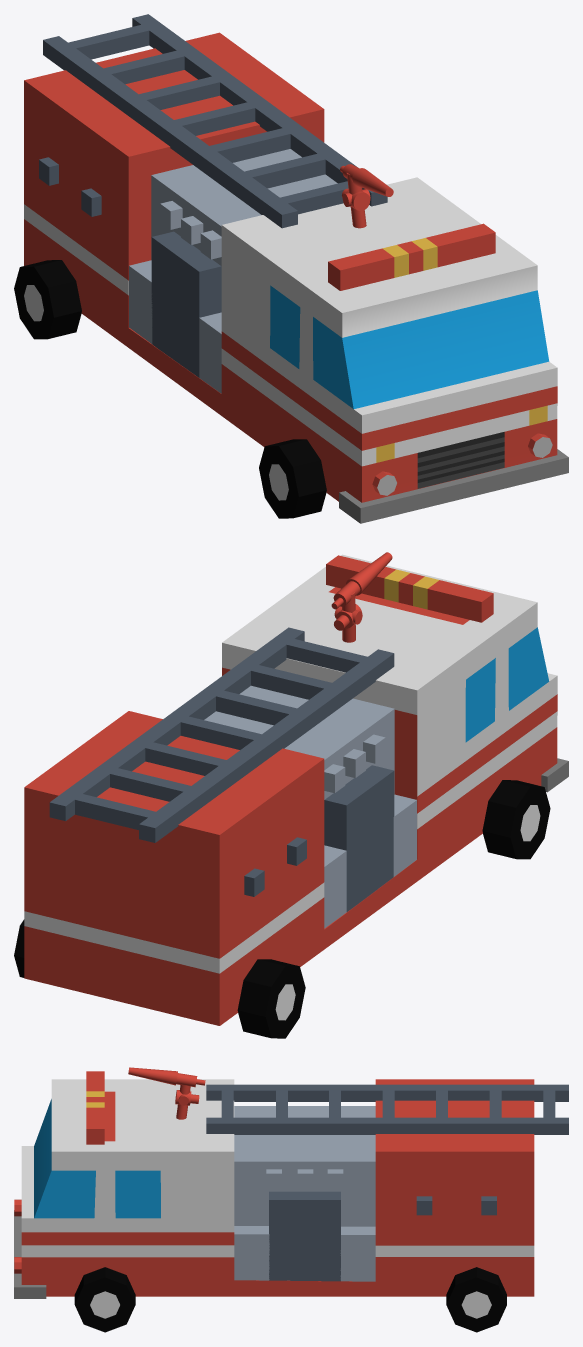
Rendered from firetruck.fbx.
3 views of the same model, one above another, from view 1: azimuth 30°, elevation 25°; view 2: azimuth 150°, elevation 25°; view 3: azimuth 270°, elevation 25° (orthographic). The views are drawn at different scales.
Visible parts, largest first — view 1: firetruck; view 2: firetruck; view 3: firetruck.
Part boxes in pixels (box(x1,y1,x2,y2)): firetruck: box(14, 14, 568, 523); firetruck: box(14, 552, 568, 1038); firetruck: box(14, 1067, 568, 1332).
Size of the model in its own units: 1.53 by 1.67 by 3.84.
